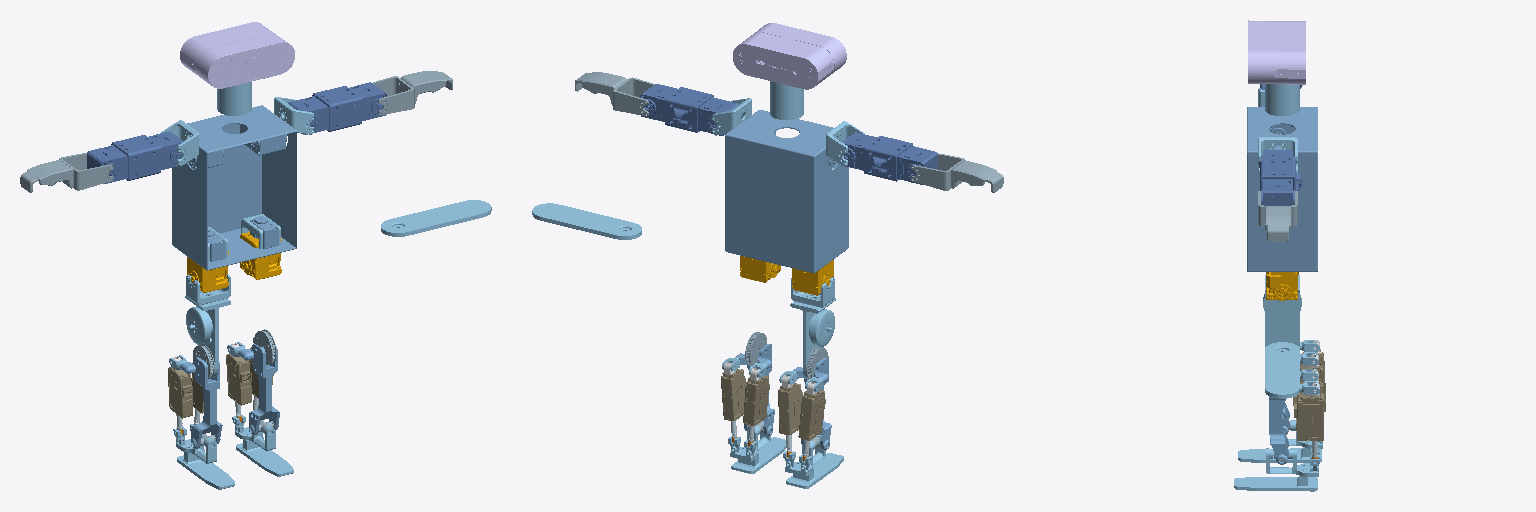
--- Render facts (derived) ---
The picture shows the robot from 3 angles, left to right: view 1: azimuth 30°, elevation 25°; view 2: azimuth 150°, elevation 25°; view 3: azimuth 270°, elevation 25°; orthographic projection.
Model base with 50 links and 49 joints (38 revolute, 4 prismatic, 7 fixed), rooted at base_link, posed all joints at 0.
Links seen in each view (by area): view 1: body_link, head_link, sho_roll_link_2, sho_roll_link, hip_pitch_link_2, elb_link_2, hip_pitch_link, elb_link, left_ank_base_link, right_ank_base_link, ank_act_link, ank_act_link_3 (+9 smaller); view 2: body_link, head_link, sho_roll_link_2, sho_roll_link, hip_pitch_link_2, hip_pitch_link, elb_link_2, elb_link, neck_link, ank_act_link_2, ank_act_link_3, ank_act_link_4 (+10 smaller); view 3: body_link, head_link, sho_roll_link, hip_pitch_link, hip_pitch_link_2, ank_act_link_2, elb_link, ank_rigid_foot_link, neck_link, left_ank_base_link, hip_roll_link, ank_roll_link (+2 smaller).
Link boxes in pixels (left/top/right/bottom): body_link: left=172, top=105, right=296, bottom=270; head_link: left=180, top=22, right=294, bottom=88; sho_roll_link_2: left=87, top=131, right=184, bottom=183; sho_roll_link: left=288, top=82, right=386, bottom=134; hip_pitch_link_2: left=185, top=274, right=230, bottom=377; elb_link_2: left=20, top=153, right=113, bottom=192; hip_pitch_link: left=381, top=200, right=491, bottom=236; elb_link: left=373, top=71, right=452, bottom=114; left_ank_base_link: left=239, top=344, right=279, bottom=434; right_ank_base_link: left=181, top=357, right=222, bottom=448; ank_act_link: left=226, top=354, right=251, bottom=405; ank_act_link_3: left=168, top=367, right=192, bottom=418; body_link: left=725, top=110, right=848, bottom=272; head_link: left=733, top=23, right=846, bottom=89; sho_roll_link_2: left=842, top=132, right=937, bottom=184; sho_roll_link: left=640, top=84, right=737, bottom=135; hip_pitch_link_2: left=790, top=277, right=835, bottom=379; hip_pitch_link: left=532, top=203, right=641, bottom=239; elb_link_2: left=911, top=153, right=1003, bottom=192; elb_link: left=575, top=72, right=654, bottom=116; neck_link: left=770, top=81, right=803, bottom=119; ank_act_link_2: left=721, top=369, right=745, bottom=420; ank_act_link_3: left=798, top=390, right=825, bottom=440; ank_act_link_4: left=778, top=383, right=802, bottom=434; body_link: left=1247, top=107, right=1317, bottom=271; head_link: left=1248, top=20, right=1305, bottom=84; sho_roll_link: left=1259, top=150, right=1302, bottom=205; hip_pitch_link: left=1265, top=342, right=1299, bottom=398; hip_pitch_link_2: left=1263, top=275, right=1301, bottom=346; ank_act_link_2: left=1294, top=393, right=1323, bottom=440; elb_link: left=1258, top=191, right=1297, bottom=241; ank_rigid_foot_link: left=1234, top=475, right=1317, bottom=491; neck_link: left=1265, top=84, right=1299, bottom=115; left_ank_base_link: left=1269, top=396, right=1288, bottom=464; hip_roll_link: left=1266, top=272, right=1298, bottom=300; ank_roll_link: left=1266, top=448, right=1318, bottom=476.
Bounding box of the posed robot: 0.6155 × 0.1037 × 0.5404 m (x, y, z).
Meshes: 49 distinct files referenced, 49 mesh visuals loaded (49 binary STL).

The robot description file, URDF, robot "base":
<?xml version="1.0" ?>
<robot name="base">
  <mujoco>
    <compiler meshdir="./meshes/" balanceinertia="true" discardvisual="false"/>
  </mujoco>
  <link name="base_link"/>
  <joint name="base_link_to_base" type="fixed">
    <parent link="base_link"/>
    <child link="body_link"/>
    <origin rpy="0.0 0 0" xyz="0 0 0"/>
  </joint>
  <link name="body_link">
    <visual>
      <origin xyz="0 0 0" rpy="0 -0 0"/>
      <geometry>
        <mesh filename="package:///meshes/body_link_visual.stl"/>
      </geometry>
      <material name="body_link_material">
        <color rgba="0.53580639039093369558 0.69998047627233728196 0.84668014903378197022 1.0"/>
      </material>
    </visual>
    <collision>
      <origin xyz="0 0 0" rpy="0 -0 0"/>
      <geometry>
        <mesh filename="package:///meshes/body_link_collision.stl"/>
      </geometry>
    </collision>
    <inertial>
      <origin xyz="4.4062888746493319004e-07 -0.031200877436958433103 0.4088646707714863604" rpy="0 0 0"/>
      <mass value="0.47165072969679472381"/>
      <inertia ixx="0.0016502701144258753643" ixy="4.6150671745810576251e-09" ixz="1.3865307173883609226e-09" iyy="0.0023122151204157939328" iyz="-3.251400921966603343e-05" izz="0.0011726853930432571457"/>
    </inertial>
  </link>

  <link name="neck_link">
    <visual>
      <origin xyz="0 0 0" rpy="0 -0 0"/>
      <geometry>
        <mesh filename="package:///meshes/neck_link_visual.stl"/>
      </geometry>
      <material name="neck_link_material">
        <color rgba="0.61568627450980395466 0.81176470588235294379 0.92941176470588227065 1.0"/>
      </material>
    </visual>
    <collision>
      <origin xyz="0 0 0" rpy="0 -0 0"/>
      <geometry>
        <mesh filename="package:///meshes/neck_link_collision.stl"/>
      </geometry>
    </collision>
    <inertial>
      <origin xyz="-1.0638645858380304546e-18 -1.2246467991473531918e-18 -0.024999999999999997918" rpy="0 0 0"/>
      <mass value="0.038955748904513441688"/>
      <inertia ixx="1.2011355912224977083e-05" ixy="0" ixz="0" iyy="1.2011355912224977083e-05" iyz="0" izz="7.7911497809026893487e-06"/>
    </inertial>
  </link>

  <link name="head_link">
    <visual>
      <origin xyz="0 0 0" rpy="0 -0 0"/>
      <geometry>
        <mesh filename="package:///meshes/head_link_visual.stl"/>
      </geometry>
      <material name="head_link_material">
        <color rgba="0.82352941176470562112 0.82352941176470562112 1 1.0"/>
      </material>
    </visual>
    <collision>
      <origin xyz="0 0 0" rpy="0 -0 0"/>
      <geometry>
        <mesh filename="package:///meshes/head_link_collision.stl"/>
      </geometry>
    </collision>
    <inertial>
      <origin xyz="-2.7167076653504106803e-05 -0.017382724514254131037 -0.019817566620870107064" rpy="0 0 0"/>
      <mass value="0.33570139948734667446"/>
      <inertia ixx="0.00014252129689030482076" ixy="-7.6303817026017514408e-09" ixz="1.7610348509398456341e-08" iyy="0.00037167471766598242019" iyz="8.4959473199279634133e-07" izz="0.00042907188406527861039"/>
    </inertial>
  </link>

  <joint name="head" type="fixed">
    <origin xyz="-8.1185058675714572018e-16 0.025000000000000202616 -0.049999999999999877875" rpy="1.1627977162610714148e-16 3.9441543390747586137e-31 -3.4420113463443417279e-33"/>
    <parent link="neck_link"/>
    <child link="head_link"/>
    <axis xyz="0 0 1"/>
    <limit effort="1" velocity="20"/>
    <joint_properties friction="0.0"/>
  </joint>

  <joint name="neck" type="fixed">
    <origin xyz="-2.8389897409080418735e-95 -0.040000000000000007772 0.47500000000000003331" rpy="-3.141592653589793116 1.4194948704540149157e-93 -2.3182110490017671006e-77"/>
    <parent link="body_link"/>
    <child link="neck_link"/>
    <axis xyz="0 0 1"/>
    <limit effort="1" velocity="20"/>
    <joint_properties friction="0.0"/>
  </joint>

  <link name="hip_yaw_link">
    <visual>
      <origin xyz="0 0 0" rpy="0 -0 0"/>
      <geometry>
        <mesh filename="package:///meshes/hip_yaw_link_visual.stl"/>
      </geometry>
      <material name="hip_yaw_link_material">
        <color rgba="0.61568627450980395466 0.81176470588235283277 0.92941176470588238168 1.0"/>
      </material>
    </visual>
    <collision>
      <origin xyz="0 0 0" rpy="0 -0 0"/>
      <geometry>
        <mesh filename="package:///meshes/hip_yaw_link_collision.stl"/>
      </geometry>
    </collision>
    <inertial>
      <origin xyz="-1.1256564660122456777e-17 -1.0288254418572155007e-18 -0.0084531286823174289768" rpy="0 0 0"/>
      <mass value="0.0052740645607467504311"/>
      <inertia ixx="7.6143588499645884262e-07" ixy="7.0320919209667631362e-15" ixz="0" iyy="1.7966487931922594855e-06" iyz="0" izz="1.8873281741438433932e-06"/>
    </inertial>
  </link>

  <link name="hip_roll_link">
    <visual>
      <origin xyz="0 0 0" rpy="0 -0 0"/>
      <geometry>
        <mesh filename="package:///meshes/hip_roll_link_visual.stl"/>
      </geometry>
      <material name="hip_roll_link_material">
        <color rgba="0.95018735644455853961 0.70678927200428420807 0.061612079402596685307 1.0"/>
      </material>
    </visual>
    <collision>
      <origin xyz="0 0 0" rpy="0 -0 0"/>
      <geometry>
        <mesh filename="package:///meshes/hip_roll_link_collision.stl"/>
      </geometry>
    </collision>
    <inertial>
      <origin xyz="-0.012000151133956580771 -0.00049588831385636569435 -0.018504019244503996933" rpy="0 0 0"/>
      <mass value="0.09801239148352869357"/>
      <inertia ixx="2.0221748766305656871e-05" ixy="-4.1552068246444377235e-08" ixz="-4.1225592188121905184e-08" iyy="2.7358099958306176906e-05" iyz="-5.0935731752409709458e-07" izz="2.7358069524722121679e-05"/>
    </inertial>
  </link>

  <link name="hip_pitch_link">
    <visual>
      <origin xyz="0 0 0" rpy="0 -0 0"/>
      <geometry>
        <mesh filename="package:///meshes/hip_pitch_link_visual.stl"/>
      </geometry>
      <material name="hip_pitch_link_material">
        <color rgba="0.61568627450980395466 0.81176470588235294379 0.9294117647058824927 1.0"/>
      </material>
    </visual>
    <collision>
      <origin xyz="0 0 0" rpy="0 -0 0"/>
      <geometry>
        <mesh filename="package:///meshes/hip_pitch_link_collision.stl"/>
      </geometry>
    </collision>
    <inertial>
      <origin xyz="-0.00014465123710725416757 0.055851948309978374785 0.027156881267530057905" rpy="0 0 0"/>
      <mass value="0.075144662701080264244"/>
      <inertia ixx="4.0191529808885994137e-05" ixy="1.6238444184423873614e-07" ixz="-1.4752139614329160592e-08" iyy="1.4356178520875714208e-05" iyz="-2.3026600051061320293e-06" izz="4.2265078109541664563e-05"/>
    </inertial>
  </link>

  <link name="knee_link">
    <visual>
      <origin xyz="0 0 0" rpy="0 -0 0"/>
      <geometry>
        <mesh filename="package:///meshes/knee_link_visual.stl"/>
      </geometry>
      <material name="knee_link_material">
        <color rgba="0.62989867807310029324 0.73714958717504697194 0.80150013263621511239 1.0"/>
      </material>
    </visual>
    <collision>
      <origin xyz="0 0 0" rpy="0 -0 0"/>
      <geometry>
        <mesh filename="package:///meshes/knee_link_collision.stl"/>
      </geometry>
    </collision>
    <inertial>
      <origin xyz="-4.7805574649124107896e-19 1.2141987371608233592e-18 -0.0032457853126643650479" rpy="0 0 0"/>
      <mass value="0.0043868974356887713642"/>
      <inertia ixx="4.1908664095027087493e-07" ixy="-6.2704372557265913346e-22" ixz="-1.50474421732691398e-21" iyy="4.1908664095026960438e-07" iyz="5.1404161659562929998e-23" izz="8.0521341717893507735e-07"/>
    </inertial>
  </link>

  <link name="left_ank_base_link">
    <visual>
      <origin xyz="0 0 0" rpy="0 -0 0"/>
      <geometry>
        <mesh filename="package:///meshes/left_ank_base_link_visual.stl"/>
      </geometry>
      <material name="left_ank_base_link_material">
        <color rgba="0.54555368846635599045 0.72113944167448473799 0.8707199484021568292 1.0"/>
      </material>
    </visual>
    <collision>
      <origin xyz="0 0 0" rpy="0 -0 0"/>
      <geometry>
        <mesh filename="package:///meshes/left_ank_base_link_collision.stl"/>
      </geometry>
    </collision>
    <inertial>
      <origin xyz="-0.0022434246051615397421 0.043104146371691257067 0.0063175709427246368524" rpy="0 0 0"/>
      <mass value="0.014262086197619733285"/>
      <inertia ixx="1.5262993546706225058e-05" ixy="9.1266662056318924248e-07" ixz="6.0404933644656539084e-08" iyy="1.963419793122548123e-06" iyz="-7.3113325087199860144e-08" izz="1.5076214983324486886e-05"/>
    </inertial>
  </link>

  <link name="ank_pitch_link">
    <visual>
      <origin xyz="0 0 0" rpy="0 -0 0"/>
      <geometry>
        <mesh filename="package:///meshes/ank_pitch_link_visual.stl"/>
      </geometry>
      <material name="ank_pitch_link_material">
        <color rgba="0.63157201649708316626 0.72836456044913711061 0.78644008682036958824 1.0"/>
      </material>
    </visual>
    <collision>
      <origin xyz="0 0 0" rpy="0 -0 0"/>
      <geometry>
        <mesh filename="package:///meshes/ank_pitch_link_collision.stl"/>
      </geometry>
    </collision>
    <inertial>
      <origin xyz="3.9220459223454419014e-08 0.0005846799720590941914 -0.014599924406174018265" rpy="0 0 0"/>
      <mass value="0.0041366725921694333726"/>
      <inertia ixx="4.3252419788339087265e-07" ixy="1.5885353965513340641e-13" ixz="1.5670565615441453685e-12" iyy="3.9522408111774832166e-07" iyz="1.6638141862510517362e-14" izz="8.5883658455742007676e-08"/>
    </inertial>
  </link>

  <link name="ank_roll_link">
    <visual>
      <origin xyz="0 0 0" rpy="0 -0 0"/>
      <geometry>
        <mesh filename="package:///meshes/ank_roll_link_visual.stl"/>
      </geometry>
      <material name="ank_roll_link_material">
        <color rgba="0.61568627450980395466 0.81176470588235283277 0.92941176470588238168 1.0"/>
      </material>
    </visual>
    <collision>
      <origin xyz="0 0 0" rpy="0 -0 0"/>
      <geometry>
        <mesh filename="package:///meshes/ank_roll_link_collision.stl"/>
      </geometry>
    </collision>
    <inertial>
      <origin xyz="-1.4901271221680251286e-10 -0.013684967917931582446 0.014389602633949050842" rpy="0 0 0"/>
      <mass value="0.0054237955467263104098"/>
      <inertia ixx="2.3215873123896830813e-06" ixy="-5.7389209347342181748e-15" ixz="-9.0715784946508249746e-15" iyy="2.1054587922310807725e-06" iyz="3.6308271258505744596e-07" izz="5.6387331373110556301e-07"/>
    </inertial>
  </link>

  <link name="ank_rigid_foot_link">
    <visual>
      <origin xyz="0 0 0" rpy="0 -0 0"/>
      <geometry>
        <mesh filename="package:///meshes/ank_rigid_foot_link_visual.stl"/>
      </geometry>
      <material name="ank_rigid_foot_link_material">
        <color rgba="0.61568627450980395466 0.81176470588235294379 0.92941176470588238168 1.0"/>
      </material>
    </visual>
    <collision>
      <origin xyz="0 0 0" rpy="0 -0 0"/>
      <geometry>
        <mesh filename="package:///meshes/ank_rigid_foot_link_collision.stl"/>
      </geometry>
    </collision>
    <inertial>
      <origin xyz="-0.023731999094105324377 -9.4396649780303798814e-10 -0.013306321578886223106" rpy="0 0 0"/>
      <mass value="0.0082157357687249205763"/>
      <inertia ixx="6.5404454512568340557e-07" ixy="3.4320556103222174329e-13" ixz="-3.2926756768140872887e-07" iyy="5.8836130895435065553e-06" iyz="-3.0207161938409150368e-15" izz="6.2852473690143493418e-06"/>
    </inertial>
  </link>

  <joint name="left_ank_foot" type="fixed">
    <origin xyz="0 -0.022499999999999999167 0.025599999999999994288" rpy="-1.570796326794896558 -1.570796326794896558 0"/>
    <parent link="ank_roll_link"/>
    <child link="ank_rigid_foot_link"/>
    <axis xyz="0 0 1"/>
    <limit effort="1" velocity="20"/>
    <joint_properties friction="0.0"/>
  </joint>

  <link name="ank_rr_link">
    <visual>
      <origin xyz="0 0 0" rpy="0 -0 0"/>
      <geometry>
        <mesh filename="package:///meshes/ank_rr_link_visual.stl"/>
      </geometry>
      <material name="ank_rr_link_material">
        <color rgba="0.61568627450980395466 0.81176470588235294379 0.92941176470588238168 1.0"/>
      </material>
    </visual>
    <collision>
      <origin xyz="0 0 0" rpy="0 -0 0"/>
      <geometry>
        <mesh filename="package:///meshes/ank_rr_link_collision.stl"/>
      </geometry>
    </collision>
    <inertial>
      <origin xyz="2.9962725549972246973e-05 -0.0069241283254153204382 -0.0018999999999999993457" rpy="0 0 0"/>
      <mass value="0.00047585137324286056349"/>
      <inertia ixx="1.1040705352249973231e-08" ixy="4.3855175770053429771e-11" ixz="-6.7102857729632790725e-15" iyy="9.5635364996381597289e-09" iyz="9.495063409068154119e-27" izz="1.4744115584475854764e-08"/>
    </inertial>
  </link>

  <link name="ank_act_rod_head">
    <visual>
      <origin xyz="0 0 0" rpy="0 -0 0"/>
      <geometry>
        <mesh filename="package:///meshes/ank_act_rod_head_visual.stl"/>
      </geometry>
      <material name="ank_act_rod_head_material">
        <color rgba="0.97254901960784312376 0.52941176470588235947 0.0039215686274509803377 1.0"/>
      </material>
    </visual>
    <collision>
      <origin xyz="0 0 0" rpy="0 -0 0"/>
      <geometry>
        <mesh filename="package:///meshes/ank_act_rod_head_collision.stl"/>
      </geometry>
    </collision>
    <inertial>
      <origin xyz="-5.7828414961537805985e-11 0.0033987031118029161977 -0.0020055782443104586306" rpy="0 0 0"/>
      <mass value="0.00066080012085386230676"/>
      <inertia ixx="1.0675794104648551211e-08" ixy="-1.8531171291745731231e-16" ixz="9.2603132968292932915e-16" iyy="2.3773718249661060612e-09" iyz="6.340139971923795343e-12" izz="1.1538333246010971133e-08"/>
    </inertial>
  </link>

  <joint name="left_ank_R21" type="revolute">
    <origin xyz="0.0020000000000000087153 -0.010000000000000008882 -0.0018999999999999995625" rpy="-1.57079632679489678 -1.5534345204865469547 -1.5707963267964526466"/>
    <parent link="ank_rr_link"/>
    <child link="ank_act_rod_head"/>
    <axis xyz="0 0 1"/>
    <limit effort="1" velocity="20" lower="-1.570796326794896558" upper="1.570796326794896558"/>
    <joint_properties friction="0.0"/>
  </joint>

  <joint name="left_ank_R11" type="revolute">
    <origin xyz="0.010000000000000001943 -0.012500000000000004163 0.040599999999999997202" rpy="-1.2787963292933377177e-17 -1.8228899889648075415e-17 3.0761399207850530502"/>
    <parent link="ank_roll_link"/>
    <child link="ank_rr_link"/>
    <axis xyz="0 0 1"/>
    <limit effort="1" velocity="20" lower="-1.570796326794896558" upper="1.570796326794896558"/>
    <joint_properties friction="0.0"/>
  </joint>

  <link name="ank_rr_link_2">
    <visual>
      <origin xyz="0 0 0" rpy="0 -0 0"/>
      <geometry>
        <mesh filename="package:///meshes/ank_rr_link_2_visual.stl"/>
      </geometry>
      <material name="ank_rr_link_2_material">
        <color rgba="0.61568627450980395466 0.81176470588235294379 0.92941176470588238168 1.0"/>
      </material>
    </visual>
    <collision>
      <origin xyz="0 0 0" rpy="0 -0 0"/>
      <geometry>
        <mesh filename="package:///meshes/ank_rr_link_2_collision.stl"/>
      </geometry>
    </collision>
    <inertial>
      <origin xyz="2.9962725549961845409e-05 0.0069241283254153134993 -0.0018999999999999997793" rpy="0 0 0"/>
      <mass value="0.00047585137324286056349"/>
      <inertia ixx="1.1040705352249969922e-08" ixy="-4.3855175770053029106e-11" ixz="6.7102857729632782836e-15" iyy="9.5635364996381597289e-09" iyz="7.3571003739104116142e-27" izz="1.4744115584475854764e-08"/>
    </inertial>
  </link>

  <link name="ank_act_rod_head_2">
    <visual>
      <origin xyz="0 0 0" rpy="0 -0 0"/>
      <geometry>
        <mesh filename="package:///meshes/ank_act_rod_head_2_visual.stl"/>
      </geometry>
      <material name="ank_act_rod_head_2_material">
        <color rgba="0.97254901960784312376 0.52941176470588235947 0.0039215686274509803377 1.0"/>
      </material>
    </visual>
    <collision>
      <origin xyz="0 0 0" rpy="0 -0 0"/>
      <geometry>
        <mesh filename="package:///meshes/ank_act_rod_head_2_collision.stl"/>
      </geometry>
    </collision>
    <inertial>
      <origin xyz="-5.7828415828126640626e-11 0.0033987031118029235703 -0.0020055782443104621" rpy="0 0 0"/>
      <mass value="0.00066080012085386230676"/>
      <inertia ixx="1.067579410464855452e-08" ixy="-1.853117129281713746e-16" ixz="9.2603132968172690792e-16" iyy="2.377371824966105234e-09" iyz="6.3401399719235618906e-12" izz="1.1538333246010974441e-08"/>
    </inertial>
  </link>

  <joint name="left_ank_R22" type="revolute">
    <origin xyz="0.0019999999999999948375 0.010000000000000015821 -0.0018999999999999999962" rpy="-1.5707963267948945596 1.5676670403457815262 -1.5707963267949440755"/>
    <parent link="ank_rr_link_2"/>
    <child link="ank_act_rod_head_2"/>
    <axis xyz="0 0 1"/>
    <limit effort="1" velocity="20" lower="-1.570796326794896558" upper="1.570796326794896558"/>
    <joint_properties friction="0.0"/>
  </joint>

  <joint name="left_ank_R12" type="revolute">
    <origin xyz="-0.0099999999999999741873 -0.012499999999999997224 0.040599999999999997202" rpy="-7.7301105620767295759e-15 2.7427633691344020646e-15 0.075580800785947366283"/>
    <parent link="ank_roll_link"/>
    <child link="ank_rr_link_2"/>
    <axis xyz="0 0 1"/>
    <limit effort="1" velocity="20" lower="-1.570796326794896558" upper="1.570796326794896558"/>
    <joint_properties friction="0.0"/>
  </joint>

  <joint name="left_ank_roll" type="revolute">
    <origin xyz="1.3877787807814456755e-17 0.0014999999999999805156 -0.014600000000000008804" rpy="1.5707963267948836794 -1.5707963267948876762 0"/>
    <parent link="ank_pitch_link"/>
    <child link="ank_roll_link"/>
    <axis xyz="0 0 1"/>
    <limit effort="1" velocity="20" lower="-1.570796326794896558" upper="1.570796326794896558"/>
    <joint_properties friction="0.0"/>
  </joint>

  <joint name="left_ank_pitch" type="revolute">
    <origin xyz="2.2898349882893853646e-16 0.099999999999999186762 0.020899999999999321898" rpy="-3.9765493497921600178e-15 1.6032661971899303447e-14 1.5707963267949018871"/>
    <parent link="left_ank_base_link"/>
    <child link="ank_pitch_link"/>
    <axis xyz="0 0 1"/>
    <limit effort="1" velocity="20" lower="-1.570796326794896558" upper="1.570796326794896558"/>
    <joint_properties friction="0.0"/>
  </joint>

  <link name="ank_b_link">
    <visual>
      <origin xyz="0 0 0" rpy="0 -0 0"/>
      <geometry>
        <mesh filename="package:///meshes/ank_b_link_visual.stl"/>
      </geometry>
      <material name="ank_b_link_material">
        <color rgba="0.61568627450980406568 0.81176470588235294379 0.92941176470588238168 1.0"/>
      </material>
    </visual>
    <collision>
      <origin xyz="0 0 0" rpy="0 -0 0"/>
      <geometry>
        <mesh filename="package:///meshes/ank_b_link_collision.stl"/>
      </geometry>
    </collision>
    <inertial>
      <origin xyz="-4.9409968174924843787e-09 -5.9508723330794147338e-09 -0.0087165888679858055665" rpy="0 0 0"/>
      <mass value="0.00089583742203429468642"/>
      <inertia ixx="3.3822537554673509423e-08" ixy="3.9003059555601949828e-15" ixz="1.5176340834792884423e-14" iyy="4.5803979388252428374e-08" iyz="5.2207519907247493101e-14" izz="2.5946834402259798692e-08"/>
    </inertial>
  </link>

  <link name="ank_act_link_head">
    <visual>
      <origin xyz="0 0 0" rpy="0 -0 0"/>
      <geometry>
        <mesh filename="package:///meshes/ank_act_link_head_visual.stl"/>
      </geometry>
      <material name="ank_act_link_head_material">
        <color rgba="0.8805660089056220885 0.88861789403065327697 0.90620490627743233158 1.0"/>
      </material>
    </visual>
    <collision>
      <origin xyz="0 0 0" rpy="0 -0 0"/>
      <geometry>
        <mesh filename="package:///meshes/ank_act_link_head_collision.stl"/>
      </geometry>
    </collision>
    <inertial>
      <origin xyz="8.5302207332433715444e-09 -0.0023472231756390144614 -0.0043000180232788494036" rpy="0 0 0"/>
      <mass value="0.0030517714925792842166"/>
      <inertia ixx="5.2970409371069138366e-08" ixy="-5.7058840878942830853e-14" ixz="1.0325254833710065904e-14" iyy="5.6254659413317882916e-08" iyz="1.164655651672180061e-13" izz="6.2451084839898886522e-08"/>
    </inertial>
  </link>

  <link name="ank_act_link">
    <visual>
      <origin xyz="0 0 0" rpy="0 -0 0"/>
      <geometry>
        <mesh filename="package:///meshes/ank_act_link_visual.stl"/>
      </geometry>
      <material name="ank_act_link_material">
        <color rgba="0.62004392100736016591 0.58836684613512646447 0.49897069021535683797 1.0"/>
      </material>
    </visual>
    <collision>
      <origin xyz="0 0 0" rpy="0 -0 0"/>
      <geometry>
        <mesh filename="package:///meshes/ank_act_link_collision.stl"/>
      </geometry>
    </collision>
    <inertial>
      <origin xyz="0.0049084207243664992187 -0.00013802439943776201943 -0.029947003577137563252" rpy="0 0 0"/>
      <mass value="0.044782197696050345115"/>
      <inertia ixx="1.5260128421304992304e-05" ixy="2.2955773686943532607e-08" ixz="-8.13642040076507444e-08" iyy="1.8188469778942020771e-05" iyz="-5.554224084389538408e-08" izz="5.1496273901719665788e-06"/>
    </inertial>
  </link>

  <link name="ank_act_rod">
    <visual>
      <origin xyz="0 0 0" rpy="0 -0 0"/>
      <geometry>
        <mesh filename="package:///meshes/ank_act_rod_visual.stl"/>
      </geometry>
      <material name="ank_act_rod_material">
        <color rgba="0.80016770676329840306 0.8929145636529542962 0.94547111589042631685 1.0"/>
      </material>
    </visual>
    <collision>
      <origin xyz="0 0 0" rpy="0 -0 0"/>
      <geometry>
        <mesh filename="package:///meshes/ank_act_rod_collision.stl"/>
      </geometry>
    </collision>
    <inertial>
      <origin xyz="-2.7254954592196531516e-06 -1.2667795959285480943e-05 0.0060054807227725333363" rpy="0 0 0"/>
      <mass value="0.0026945559868381376359"/>
      <inertia ixx="3.2231832056346636488e-07" ixy="-9.9380293177858854772e-13" ixz="1.0490654904374275287e-10" iyy="3.2231218697767694754e-07" iyz="5.6317539912889412714e-10" izz="1.8746557075763103622e-08"/>
    </inertial>
  </link>

  <joint name="left_ank_act1" type="prismatic">
    <origin xyz="2.2722093439889699817e-06 -2.3175905639050142781e-15 -0.059207313423199875446" rpy="3.141592653589793116 6.878790537704591275e-16 -0.63671356442007176479"/>
    <parent link="ank_act_link"/>
    <child link="ank_act_rod"/>
    <axis xyz="0 0 1"/>
    <limit effort="1" velocity="20" lower="-0.017000000000000001221" upper="0.017000000000000001221"/>
    <joint_properties friction="0.0"/>
  </joint>

  <joint name="left_ank_B31" type="revolute">
    <origin xyz="-4.336808689942017736e-19 -0.0060499999999999720668 -0.0043000000000000017375" rpy="1.570796326794896558 5.4574690063457464206e-06 3.1415926535897917837"/>
    <parent link="ank_act_link_head"/>
    <child link="ank_act_link"/>
    <axis xyz="0 0 1"/>
    <limit effort="1" velocity="20" lower="-1.570796326794896558" upper="1.570796326794896558"/>
    <joint_properties friction="0.0"/>
  </joint>

  <joint name="left_ank_B21" type="revolute">
    <origin xyz="-0.0044999999999999970579 0 -0.016999999999999997752" rpy="1.5707963267948970021 1.553434520486443482 -1.5707963267948976682"/>
    <parent link="ank_b_link"/>
    <child link="ank_act_link_head"/>
    <axis xyz="0 0 1"/>
    <limit effort="1" velocity="20" lower="-1.570796326794896558" upper="1.570796326794896558"/>
    <joint_properties friction="0.0"/>
  </joint>

  <joint name="left_ank_B11" type="revolute">
    <origin xyz="0.018680019623525515038 0.010000000000000258682 0.023399999999999653716" rpy="-1.570796326794896558 -1.5053435939902863883 1.5707963267948972241"/>
    <parent link="left_ank_base_link"/>
    <child link="ank_b_link"/>
    <axis xyz="0 0 1"/>
    <limit effort="1" velocity="20" lower="-1.570796326794896558" upper="1.570796326794896558"/>
    <joint_properties friction="0.0"/>
  </joint>

  <link name="ank_b_link_2">
    <visual>
      <origin xyz="0 0 0" rpy="0 -0 0"/>
      <geometry>
        <mesh filename="package:///meshes/ank_b_link_2_visual.stl"/>
      </geometry>
      <material name="ank_b_link_2_material">
        <color rgba="0.61568627450980406568 0.81176470588235294379 0.92941176470588238168 1.0"/>
      </material>
    </visual>
    <collision>
      <origin xyz="0 0 0" rpy="0 -0 0"/>
      <geometry>
        <mesh filename="package:///meshes/ank_b_link_2_collision.stl"/>
      </geometry>
    </collision>
    <inertial>
      <origin xyz="-4.9409968174931535678e-09 5.9508723885891341154e-09 0.0087165888679858055665" rpy="0 0 0"/>
      <mass value="0.00089583742203429468642"/>
      <inertia ixx="3.3822537554673509423e-08" ixy="-3.9003059555719639987e-15" ixz="-1.5176340834791707442e-14" iyy="4.5803979388252428374e-08" iyz="5.2207519907281369944e-14" izz="2.5946834402259798692e-08"/>
    </inertial>
  </link>

  <link name="ank_act_link_head_2">
    <visual>
      <origin xyz="0 0 0" rpy="0 -0 0"/>
      <geometry>
        <mesh filename="package:///meshes/ank_act_link_head_2_visual.stl"/>
      </geometry>
      <material name="ank_act_link_head_2_material">
        <color rgba="0.8805660089056220885 0.88861789403065327697 0.90620490627743233158 1.0"/>
      </material>
    </visual>
    <collision>
      <origin xyz="0 0 0" rpy="0 -0 0"/>
      <geometry>
        <mesh filename="package:///meshes/ank_act_link_head_2_collision.stl"/>
      </geometry>
    </collision>
    <inertial>
      <origin xyz="8.5302207459455471046e-09 0.0023472231756390240023 -0.0042999819767212338686" rpy="0 0 0"/>
      <mass value="0.0030517714925792842166"/>
      <inertia ixx="5.2970409371068860433e-08" ixy="5.7058840739502628664e-14" ixz="-1.0325254833247212812e-14" iyy="5.6254659413317882916e-08" iyz="1.1646556595655523185e-13" izz="6.2451084839898608589e-08"/>
    </inertial>
  </link>

  <link name="ank_act_link_2">
    <visual>
      <origin xyz="0 0 0" rpy="0 -0 0"/>
      <geometry>
        <mesh filename="package:///meshes/ank_act_link_2_visual.stl"/>
      </geometry>
      <material name="ank_act_link_2_material">
        <color rgba="0.62004392100736027693 0.58836684613512635345 0.49897069021535683797 1.0"/>
      </material>
    </visual>
    <collision>
      <origin xyz="0 0 0" rpy="0 -0 0"/>
      <geometry>
        <mesh filename="package:///meshes/ank_act_link_2_collision.stl"/>
      </geometry>
    </collision>
    <inertial>
      <origin xyz="0.0049084207243662971235 -0.00013802439943620580984 -0.029947003577136210167" rpy="0 0 0"/>
      <mass value="0.044782197696050352054"/>
      <inertia ixx="1.5260128421303992806e-05" ixy="2.2955773687139518164e-08" ixz="-8.136420400771147931e-08" iyy="1.8188469778941055154e-05" iyz="-5.5542240843303658774e-08" izz="5.1496273901720436588e-06"/>
    </inertial>
  </link>

  <link name="ank_act_rod_2">
    <visual>
      <origin xyz="0 0 0" rpy="0 -0 0"/>
      <geometry>
        <mesh filename="package:///meshes/ank_act_rod_2_visual.stl"/>
      </geometry>
      <material name="ank_act_rod_2_material">
        <color rgba="0.80016770676329840306 0.8929145636529542962 0.94547111589042631685 1.0"/>
      </material>
    </visual>
    <collision>
      <origin xyz="0 0 0" rpy="0 -0 0"/>
      <geometry>
        <mesh filename="package:///meshes/ank_act_rod_2_collision.stl"/>
      </geometry>
    </collision>
    <inertial>
      <origin xyz="-2.7254954586314281568e-06 -1.2667795959237606641e-05 0.0060054807227712253548" rpy="0 0 0"/>
      <mass value="0.0026945559868381376359"/>
      <inertia ixx="3.2231832056338510265e-07" ixy="-9.9380293169653994539e-13" ixz="1.0490654902578466177e-10" iyy="3.2231218697759494416e-07" iyz="5.6317539912783440538e-10" izz="1.8746557075762872011e-08"/>
    </inertial>
  </link>

  <joint name="left_ank_act2" type="prismatic">
    <origin xyz="2.2722093437109805447e-06 2.2204460492503130808e-16 -0.059246516530140014289" rpy="-3.141592653589793116 -3.3046120317952816603e-15 -0.6367135644200548894"/>
    <parent link="ank_act_link_2"/>
    <child link="ank_act_rod_2"/>
    <axis xyz="0 0 1"/>
    <limit effort="1" velocity="20" lower="-0.017000000000000001221" upper="0.017000000000000001221"/>
    <joint_properties friction="0.0"/>
  </joint>

  <joint name="left_ank_B32" type="revolute">
    <origin xyz="-1.7347234759768070944e-18 0.0060499999999999998224 -0.0043000000000000190847" rpy="-1.5707963267948970021 -5.4574692695236841152e-06 3.1415926535897900074"/>
    <parent link="ank_act_link_head_2"/>
    <child link="ank_act_link_2"/>
    <axis xyz="0 0 1"/>
    <limit effort="1" velocity="20" lower="-1.570796326794896558" upper="1.570796326794896558"/>
    <joint_properties friction="0.0"/>
  </joint>

  <joint name="left_ank_B22" type="revolute">
    <origin xyz="-0.0045000000000000039968 2.7755575615628913511e-17 0.016999999999999997752" rpy="1.5707963267948976682 -1.5676670403455870151 -1.5707963267941265073"/>
    <parent link="ank_b_link_2"/>
    <child link="ank_act_link_head_2"/>
    <axis xyz="0 0 1"/>
    <limit effort="1" velocity="20" lower="-1.570796326794896558" upper="1.570796326794896558"/>
    <joint_properties friction="0.0"/>
  </joint>

  <joint name="left_ank_B12" type="revolute">
    <origin xyz="0.020000000000000000416 0.010000000000000008882 -0.011499999999999996336" rpy="1.570796326794896558 1.4952155260088482169 1.5707963267948961139"/>
    <parent link="left_ank_base_link"/>
    <child link="ank_b_link_2"/>
    <axis xyz="0 0 1"/>
    <limit effort="1" velocity="20" lower="-1.570796326794896558" upper="1.570796326794896558"/>
    <joint_properties friction="0.0"/>
  </joint>

  <joint name="left_ank_base" type="fixed">
    <origin xyz="-2.7755575615628913511e-17 -2.7755575615628913511e-17 -0.0065000000000000404676" rpy="-2.5778424446483550449e-15 -5.8771504303585622093e-17 -2.0891591146372152643"/>
    <parent link="knee_link"/>
    <child link="left_ank_base_link"/>
    <axis xyz="0 0 1"/>
    <limit effort="1" velocity="20"/>
    <joint_properties friction="0.0"/>
  </joint>

  <joint name="left_knee" type="revolute">
    <origin xyz="-7.6327832942979512154e-17 0.10750000000000065059 0.021499999999999946237" rpy="-3.141592653589793116 1.6520983539851397786e-15 1.0471975511966311601"/>
    <parent link="hip_pitch_link"/>
    <child link="knee_link"/>
    <axis xyz="0 0 1"/>
    <limit effort="1" velocity="20" lower="-1.0471975511965976313" upper="2.0943951023931952626"/>
    <joint_properties friction="0.0"/>
  </joint>

  <joint name="left_hip_pitch" type="revolute">
    <origin xyz="-0.024000000716140057477 -0.019000000152448709434 -0.019000000152448379837" rpy="-1.5707963267948990005 1.5707963267948346076 0"/>
    <parent link="hip_roll_link"/>
    <child link="hip_pitch_link"/>
    <axis xyz="0 0 1"/>
    <limit effort="1" velocity="20" lower="-1.570796326794896558" upper="1.570796326794896558"/>
    <joint_properties friction="0.0"/>
  </joint>

  <joint name="left_hip_roll" type="revolute">
    <origin xyz="0.01899999999999998912 -6.9388939039072283776e-18 -0.027499999999999968914" rpy="3.1415926535897926719 -1.5707963267948950037 0"/>
    <parent link="hip_yaw_link"/>
    <child link="hip_roll_link"/>
    <axis xyz="0 0 1"/>
    <limit effort="1" velocity="20" lower="-1.570796326794896558" upper="1.570796326794896558"/>
    <joint_properties friction="0.0"/>
  </joint>

  <joint name="left_hip_yaw" type="revolute">
    <origin xyz="0.034999999999999989453 -0.039999999999999993894 0.32359999999999999876" rpy="8.2736565350258079362e-17 -1.1884745520697063838e-16 1.570796326794742015"/>
    <parent link="body_link"/>
    <child link="hip_yaw_link"/>
    <axis xyz="0 0 1"/>
    <limit effort="1" velocity="20" lower="-1.570796326794896558" upper="1.570796326794896558"/>
    <joint_properties friction="0.0"/>
  </joint>

  <link name="hip_yaw_link_2">
    <visual>
      <origin xyz="0 0 0" rpy="0 -0 0"/>
      <geometry>
        <mesh filename="package:///meshes/hip_yaw_link_2_visual.stl"/>
      </geometry>
      <material name="hip_yaw_link_2_material">
        <color rgba="0.61568627450980395466 0.81176470588235283277 0.92941176470588238168 1.0"/>
      </material>
    </visual>
    <collision>
      <origin xyz="0 0 0" rpy="0 -0 0"/>
      <geometry>
        <mesh filename="package:///meshes/hip_yaw_link_2_collision.stl"/>
      </geometry>
    </collision>
    <inertial>
      <origin xyz="-4.3176707562152299399e-18 -1.0288254418572155007e-18 -0.0084531286823174289768" rpy="0 0 0"/>
      <mass value="0.0052740645607467504311"/>
      <inertia ixx="7.6143588499645884262e-07" ixy="7.0320919209667631362e-15" ixz="0" iyy="1.7966487931922594855e-06" iyz="0" izz="1.8873281741438433932e-06"/>
    </inertial>
  </link>

  <link name="hip_roll_link_2">
    <visual>
      <origin xyz="0 0 0" rpy="0 -0 0"/>
      <geometry>
        <mesh filename="package:///meshes/hip_roll_link_2_visual.stl"/>
      </geometry>
      <material name="hip_roll_link_2_material">
        <color rgba="0.95018735644455831757 0.70678927200428420807 0.061612079402596706124 1.0"/>
      </material>
    </visual>
    <collision>
      <origin xyz="0 0 0" rpy="0 -0 0"/>
      <geometry>
        <mesh filename="package:///meshes/hip_roll_link_2_collision.stl"/>
      </geometry>
    </collision>
    <inertial>
      <origin xyz="-0.012000151133958301616 -0.0004958883138579184887 -0.018504019244505284097" rpy="0 0 0"/>
      <mass value="0.09801239148352869357"/>
      <inertia ixx="2.022174876630631078e-05" ixy="-4.155206824665510315e-08" ixz="-4.1225592188223800601e-08" iyy="2.7358099958306752889e-05" iyz="-5.0935731752412377612e-07" izz="2.7358069524723090685e-05"/>
    </inertial>
  </link>

  <link name="hip_pitch_link_2">
    <visual>
      <origin xyz="0 0 0" rpy="0 -0 0"/>
      <geometry>
        <mesh filename="package:///meshes/hip_pitch_link_2_visual.stl"/>
      </geometry>
      <material name="hip_pitch_link_2_material">
        <color rgba="0.61568627450980395466 0.81176470588235294379 0.9294117647058824927 1.0"/>
      </material>
    </visual>
    <collision>
      <origin xyz="0 0 0" rpy="0 -0 0"/>
      <geometry>
        <mesh filename="package:///meshes/hip_pitch_link_2_collision.stl"/>
      </geometry>
    </collision>
    <inertial>
      <origin xyz="-0.00014465123710725508914 -0.055851948309978069473 0.010843118732469127566" rpy="0 0 0"/>
      <mass value="0.075144662701080264244"/>
      <inertia ixx="4.0191529808885194538e-05" ixy="-1.6238444184403867755e-07" ixz="1.4752139614553988282e-08" iyy="1.4356178520875839569e-05" iyz="-2.3026600051062988948e-06" izz="4.226507810954116312e-05"/>
    </inertial>
  </link>

  <link name="knee_link_2">
    <visual>
      <origin xyz="0 0 0" rpy="0 -0 0"/>
      <geometry>
        <mesh filename="package:///meshes/knee_link_2_visual.stl"/>
      </geometry>
      <material name="knee_link_2_material">
        <color rgba="0.62989867807310029324 0.73714958717504697194 0.80150013263621511239 1.0"/>
      </material>
    </visual>
    <collision>
      <origin xyz="0 0 0" rpy="0 -0 0"/>
      <geometry>
        <mesh filename="package:///meshes/knee_link_2_collision.stl"/>
      </geometry>
    </collision>
    <inertial>
      <origin xyz="2.2926869309388423426e-17 6.637187732689870912e-18 -0.0032457853126643468333" rpy="0 0 0"/>
      <mass value="0.0043868974356887713642"/>
      <inertia ixx="4.1908664095027235723e-07" ixy="1.0782789776895085275e-22" ixz="-1.2794454692413441591e-22" iyy="4.1908664095027288663e-07" iyz="-2.5814071989648744261e-23" izz="8.0521341717893698318e-07"/>
    </inertial>
  </link>

  <link name="right_ank_base_link">
    <visual>
      <origin xyz="0 0 0" rpy="0 -0 0"/>
      <geometry>
        <mesh filename="package:///meshes/right_ank_base_link_visual.stl"/>
      </geometry>
      <material name="right_ank_base_link_material">
        <color rgba="0.54555368554134919812 0.72113943789479362234 0.87071994595430801667 1.0"/>
      </material>
    </visual>
    <collision>
      <origin xyz="0 0 0" rpy="0 -0 0"/>
      <geometry>
        <mesh filename="package:///meshes/right_ank_base_link_collision.stl"/>
      </geometry>
    </collision>
    <inertial>
      <origin xyz="-0.0022434246825545770335 -0.043104144816367782889 0.0063175704226240397138" rpy="0 0 0"/>
      <mass value="0.014262085602793538042"/>
      <inertia ixx="1.5262992632425658384e-05" ixy="-9.1266664371015536562e-07" ixz="6.0404946505411834191e-08" iyy="1.9634196913479010804e-06" iyz="7.3113059658503983429e-08" izz="1.5076214172992284614e-05"/>
    </inertial>
  </link>

  <link name="ank_pitch_link_2">
    <visual>
      <origin xyz="0 0 0" rpy="0 -0 0"/>
      <geometry>
        <mesh filename="package:///meshes/ank_pitch_link_2_visual.stl"/>
      </geometry>
      <material name="ank_pitch_link_2_material">
        <color rgba="0.63157201649708305524 0.72836456044913699959 0.78644008682036936619 1.0"/>
      </material>
    </visual>
    <collision>
      <origin xyz="0 0 0" rpy="0 -0 0"/>
      <geometry>
        <mesh filename="package:///meshes/ank_pitch_link_2_collision.stl"/>
      </geometry>
    </collision>
    <inertial>
      <origin xyz="3.9220459196882896197e-08 0.00058467997205909061353 -0.014599924406173888161" rpy="0 0 0"/>
      <mass value="0.0041366725921694342399"/>
      <inertia ixx="4.3252419788338219056e-07" ixy="1.5885354031783980189e-13" ixz="1.5670565570500054478e-12" iyy="3.9522408111774318652e-07" iyz="1.6638141961772190869e-14" izz="8.5883658455740525368e-08"/>
    </inertial>
  </link>

  <link name="ank_roll_link_2">
    <visual>
      <origin xyz="0 0 0" rpy="0 -0 0"/>
      <geometry>
        <mesh filename="package:///meshes/ank_roll_link_2_visual.stl"/>
      </geometry>
      <material name="ank_roll_link_2_material">
        <color rgba="0.61568627450980395466 0.81176470588235283277 0.92941176470588238168 1.0"/>
      </material>
    </visual>
    <collision>
      <origin xyz="0 0 0" rpy="0 -0 0"/>
      <geometry>
        <mesh filename="package:///meshes/ank_roll_link_2_collision.stl"/>
      </geometry>
    </collision>
    <inertial>
      <origin xyz="-1.4901271915569641677e-10 -0.013684967917931594589 0.014389602633949057781" rpy="0 0 0"/>
      <mass value="0.0054237955467263104098"/>
      <inertia ixx="2.3215873123896830813e-06" ixy="-5.7389209347342181748e-15" ixz="-9.0715784946508265523e-15" iyy="2.1054587922310807725e-06" iyz="3.630827125850574989e-07" izz="5.6387331373110577477e-07"/>
    </inertial>
  </link>

  <link name="ank_rigid_foot_link_2">
    <visual>
      <origin xyz="0 0 0" rpy="0 -0 0"/>
      <geometry>
        <mesh filename="package:///meshes/ank_rigid_foot_link_2_visual.stl"/>
      </geometry>
      <material name="ank_rigid_foot_link_2_material">
        <color rgba="0.61568627450980395466 0.81176470588235294379 0.92941176470588238168 1.0"/>
      </material>
    </visual>
    <collision>
      <origin xyz="0 0 0" rpy="0 -0 0"/>
      <geometry>
        <mesh filename="package:///meshes/ank_rigid_foot_link_2_collision.stl"/>
      </geometry>
    </collision>
    <inertial>
      <origin xyz="-0.023731999094105331316 -9.4396649780303798814e-10 -0.013306321578886216167" rpy="0 0 0"/>
      <mass value="0.0082157357687249205763"/>
      <inertia ixx="6.5404454512568340557e-07" ixy="3.4320556103222174329e-13" ixz="-3.2926756768140878181e-07" iyy="5.8836130895435065553e-06" iyz="-3.0207161938409154313e-15" izz="6.2852473690143510358e-06"/>
    </inertial>
  </link>

  <joint name="right_ank_foot" type="fixed">
    <origin xyz="0 -0.022500000000000019984 0.025600000000000001227" rpy="-1.570796326794896558 -1.570796326794896336 0"/>
    <parent link="ank_roll_link_2"/>
    <child link="ank_rigid_foot_link_2"/>
    <axis xyz="0 0 1"/>
    <limit effort="1" velocity="20"/>
    <joint_properties friction="0.0"/>
  </joint>

  <link name="ank_rr_link_3">
    <visual>
      <origin xyz="0 0 0" rpy="0 -0 0"/>
      <geometry>
        <mesh filename="package:///meshes/ank_rr_link_3_visual.stl"/>
      </geometry>
      <material name="ank_rr_link_3_material">
        <color rgba="0.61568627450980395466 0.81176470588235294379 0.92941176470588238168 1.0"/>
      </material>
    </visual>
    <collision>
      <origin xyz="0 0 0" rpy="0 -0 0"/>
      <geometry>
        <mesh filename="package:///meshes/ank_rr_link_3_collision.stl"/>
      </geometry>
    </collision>
    <inertial>
      <origin xyz="2.9962725549961848797e-05 -0.006924128325415312632 -0.0018999999999999993457" rpy="0 0 0"/>
      <mass value="0.00047585137324286056349"/>
      <inertia ixx="1.1040705352249969922e-08" ixy="4.3855175770053003256e-11" ixz="-6.710285772961721861e-15" iyy="9.5635364996381564202e-09" iyz="-2.0297815031880094289e-26" izz="1.4744115584475854764e-08"/>
    </inertial>
  </link>

  <link name="ank_act_rod_head_3">
    <visual>
      <origin xyz="0 0 0" rpy="0 -0 0"/>
      <geometry>
        <mesh filename="package:///meshes/ank_act_rod_head_3_visual.stl"/>
      </geometry>
      <material name="ank_act_rod_head_3_material">
        <color rgba="0.97254901960784312376 0.52941176470588235947 0.0039215686274509803377 1.0"/>
      </material>
    </visual>
    <collision>
      <origin xyz="0 0 0" rpy="0 -0 0"/>
      <geometry>
        <mesh filename="package:///meshes/ank_act_rod_head_3_collision.stl"/>
      </geometry>
    </collision>
    <inertial>
      <origin xyz="-5.7828415825308539677e-11 0.0033987031118029235703 -0.0020055782443104551611" rpy="0 0 0"/>
      <mass value="0.00066080012085386230676"/>
      <inertia ixx="1.067579410464855452e-08" ixy="-1.8531171299137422008e-16" ixz="9.260313296695139606e-16" iyy="2.377371824966105234e-09" iyz="6.3401399719237622234e-12" izz="1.1538333246010974441e-08"/>
    </inertial>
  </link>

  <joint name="right_ank_R21" type="revolute">
    <origin xyz="0.0019999999999999878986 -0.009999999999999995004 -0.0018999999999999991288" rpy="-1.5707963267948961139 -1.5353521467807458301 -1.5707963267947508967"/>
    <parent link="ank_rr_link_3"/>
    <child link="ank_act_rod_head_3"/>
    <axis xyz="0 0 1"/>
    <limit effort="1" velocity="20" lower="-1.570796326794896558" upper="1.570796326794896558"/>
    <joint_properties friction="0.0"/>
  </joint>

  <joint name="right_ank_R11" type="revolute">
    <origin xyz="0.010000000000000008882 -0.012500000000000018041 0.040600000000000004141" rpy="2.5313865286216826369e-15 1.7810538515162586169e-15 3.0693447373541720147"/>
    <parent link="ank_roll_link_2"/>
    <child link="ank_rr_link_3"/>
    <axis xyz="0 0 1"/>
    <limit effort="1" velocity="20" lower="-1.570796326794896558" upper="1.570796326794896558"/>
    <joint_properties friction="0.0"/>
  </joint>

  <link name="ank_rr_link_4">
    <visual>
      <origin xyz="0 0 0" rpy="0 -0 0"/>
      <geometry>
        <mesh filename="package:///meshes/ank_rr_link_4_visual.stl"/>
      </geometry>
      <material name="ank_rr_link_4_material">
        <color rgba="0.61568627450980395466 0.81176470588235294379 0.92941176470588238168 1.0"/>
      </material>
    </visual>
    <collision>
      <origin xyz="0 0 0" rpy="0 -0 0"/>
      <geometry>
        <mesh filename="package:///meshes/ank_rr_link_4_collision.stl"/>
      </geometry>
    </collision>
    <inertial>
      <origin xyz="2.9962725549968811408e-05 0.0069241283254153134993 -0.0018999999999999999962" rpy="0 0 0"/>
      <mass value="0.00047585137324286056349"/>
      <inertia ixx="1.1040705352249973231e-08" ixy="-4.3855175770053138965e-11" ixz="6.7102857729619340646e-15" iyy="9.5635364996381597289e-09" iyz="7.0975356260864047988e-27" izz="1.4744115584475854764e-08"/>
    </inertial>
  </link>

  <link name="ank_act_rod_head_4">
    <visual>
      <origin xyz="0 0 0" rpy="0 -0 0"/>
      <geometry>
        <mesh filename="package:///meshes/ank_act_rod_head_4_visual.stl"/>
      </geometry>
      <material name="ank_act_rod_head_4_material">
        <color rgba="0.97254901960784312376 0.52941176470588235947 0.0039215686274509803377 1.0"/>
      </material>
    </visual>
    <collision>
      <origin xyz="0 0 0" rpy="0 -0 0"/>
      <geometry>
        <mesh filename="package:///meshes/ank_act_rod_head_4_collision.stl"/>
      </geometry>
    </collision>
    <inertial>
      <origin xyz="-5.7828416265912315862e-11 0.0033987031118029235703 -0.0020055782443104621" rpy="0 0 0"/>
      <mass value="0.00066080012085386230676"/>
      <inertia ixx="1.067579410464855452e-08" ixy="-1.8531171301020622808e-16" ixz="9.2603132968862924362e-16" iyy="2.3773718249661060612e-09" iyz="6.3401399719234601086e-12" izz="1.1538333246010974441e-08"/>
    </inertial>
  </link>

  <joint name="right_ank_R22" type="revolute">
    <origin xyz="0.0020000000000000017764 0.009999999999999995004 -0.0018999999999999999962" rpy="-1.57079632679489678 1.5211261901953123665 -1.570796326794951181"/>
    <parent link="ank_rr_link_4"/>
    <child link="ank_act_rod_head_4"/>
    <axis xyz="0 0 1"/>
    <limit effort="1" velocity="20" lower="-1.570796326794896558" upper="1.570796326794896558"/>
    <joint_properties friction="0.0"/>
  </joint>

  <joint name="right_ank_R12" type="revolute">
    <origin xyz="-0.010000000000000005412 -0.012500000000000018041 0.04060000000000001108" rpy="-2.1857493624022859542e-15 -1.8666708694869886266e-15 0.068787263405216209078"/>
    <parent link="ank_roll_link_2"/>
    <child link="ank_rr_link_4"/>
    <axis xyz="0 0 1"/>
    <limit effort="1" velocity="20" lower="-1.570796326794896558" upper="1.570796326794896558"/>
    <joint_properties friction="0.0"/>
  </joint>

  <joint name="right_ank_roll" type="revolute">
    <origin xyz="-1.3877787807814456755e-17 0.0014999999999999805156 -0.01459999999999984574" rpy="-1.5707963267948943376 1.5707963267947937513 0"/>
    <parent link="ank_pitch_link_2"/>
    <child link="ank_roll_link_2"/>
    <axis xyz="0 0 1"/>
    <limit effort="1" velocity="20" lower="-1.570796326794896558" upper="1.570796326794896558"/>
    <joint_properties friction="0.0"/>
  </joint>

  <joint name="right_ank_pitch" type="revolute">
    <origin xyz="6.9388939039072283776e-18 -0.10000000000000000555 0.02089999999999999844" rpy="-1.2383945132469940545e-15 -9.5544025531341604884e-15 -1.5707963267949187625"/>
    <parent link="right_ank_base_link"/>
    <child link="ank_pitch_link_2"/>
    <axis xyz="0 0 1"/>
    <limit effort="1" velocity="20" lower="-1.570796326794896558" upper="1.570796326794896558"/>
    <joint_properties friction="0.0"/>
  </joint>

  <link name="ank_b_link_3">
    <visual>
      <origin xyz="0 0 0" rpy="0 -0 0"/>
      <geometry>
        <mesh filename="package:///meshes/ank_b_link_3_visual.stl"/>
      </geometry>
      <material name="ank_b_link_3_material">
        <color rgba="0.61568627450980406568 0.81176470588235294379 0.92941176470588238168 1.0"/>
      </material>
    </visual>
    <collision>
      <origin xyz="0 0 0" rpy="0 -0 0"/>
      <geometry>
        <mesh filename="package:///meshes/ank_b_link_3_collision.stl"/>
      </geometry>
    </collision>
    <inertial>
      <origin xyz="-4.9409968174925877763e-09 -5.9508723608438337374e-09 -0.0087165888679858055665" rpy="0 0 0"/>
      <mass value="0.00089583742203429468642"/>
      <inertia ixx="3.3822537554673509423e-08" ixy="3.9003059556586992552e-15" ixz="1.5176340834791306701e-14" iyy="4.5803979388252428374e-08" iyz="5.2207519907253311739e-14" izz="2.5946834402259798692e-08"/>
    </inertial>
  </link>

  <link name="ank_act_link_head_3">
    <visual>
      <origin xyz="0 0 0" rpy="0 -0 0"/>
      <geometry>
        <mesh filename="package:///meshes/ank_act_link_head_3_visual.stl"/>
      </geometry>
      <material name="ank_act_link_head_3_material">
        <color rgba="0.8805660089056220885 0.88861789403065327697 0.90620490627743233158 1.0"/>
      </material>
    </visual>
    <collision>
      <origin xyz="0 0 0" rpy="0 -0 0"/>
      <geometry>
        <mesh filename="package:///meshes/ank_act_link_head_3_collision.stl"/>
      </geometry>
    </collision>
    <inertial>
      <origin xyz="8.5302207385579490774e-09 0.0023472231756390235687 -0.0042999819767211696839" rpy="0 0 0"/>
      <mass value="0.0030517714925792842166"/>
      <inertia ixx="5.2970409371069297184e-08" ixy="5.7058840794684736406e-14" ixz="-1.0325254833530500651e-14" iyy="5.6254659413317882916e-08" iyz="1.1646556537605061657e-13" izz="6.2451084839899018871e-08"/>
    </inertial>
  </link>

  <link name="ank_act_link_3">
    <visual>
      <origin xyz="0 0 0" rpy="0 -0 0"/>
      <geometry>
        <mesh filename="package:///meshes/ank_act_link_3_visual.stl"/>
      </geometry>
      <material name="ank_act_link_3_material">
        <color rgba="0.62004392100736027693 0.58836684613512635345 0.49897069021535672695 1.0"/>
      </material>
    </visual>
    <collision>
      <origin xyz="0 0 0" rpy="0 -0 0"/>
      <geometry>
        <mesh filename="package:///meshes/ank_act_link_3_collision.stl"/>
      </geometry>
    </collision>
    <inertial>
      <origin xyz="0.0049084207243661704886 -0.00013802439943759578413 -0.029947003577140640651" rpy="0 0 0"/>
      <mass value="0.044782197696050352054"/>
      <inertia ixx="1.5260128421307411431e-05" ixy="2.295577368665933651e-08" ixz="-8.136420400780391178e-08" iyy="1.8188469778945351305e-05" iyz="-5.5542240843851331749e-08" izz="5.1496273901728923858e-06"/>
    </inertial>
  </link>

  <link name="ank_act_rod_3">
    <visual>
      <origin xyz="0 0 0" rpy="0 -0 0"/>
      <geometry>
        <mesh filename="package:///meshes/ank_act_rod_3_visual.stl"/>
      </geometry>
      <material name="ank_act_rod_3_material">
        <color rgba="0.80016770676329840306 0.8929145636529542962 0.94547111589042631685 1.0"/>
      </material>
    </visual>
    <collision>
      <origin xyz="0 0 0" rpy="0 -0 0"/>
      <geometry>
        <mesh filename="package:///meshes/ank_act_rod_3_collision.stl"/>
      </geometry>
    </collision>
    <inertial>
      <origin xyz="-2.7254954600080735365e-06 -1.2667795959996702322e-05 0.0060054807227738534608" rpy="0 0 0"/>
      <mass value="0.0026945559868381376359"/>
      <inertia ixx="3.2231832056355027408e-07" ixy="-9.9380293187663590555e-13" ixz="1.0490654906885151017e-10" iyy="3.2231218697776069792e-07" iyz="5.6317539915140956982e-10" izz="1.8746557075763282293e-08"/>
    </inertial>
  </link>

  <joint name="right_ank_act1" type="prismatic">
    <origin xyz="2.2722093423522583822e-06 -2.9004576518332214619e-15 -0.059300761807581189866" rpy="3.141592653589793116 4.3394957676616399489e-15 -0.63671356442003834708"/>
    <parent link="ank_act_link_3"/>
    <child link="ank_act_rod_3"/>
    <axis xyz="0 0 1"/>
    <limit effort="1" velocity="20" lower="-0.017000000000000001221" upper="0.017000000000000001221"/>
    <joint_properties friction="0.0"/>
  </joint>

  <joint name="right_ank_B31" type="revolute">
    <origin xyz="8.6736173798840354721e-19 0.0060500000000000275779 -0.0042999999999999982681" rpy="1.57079632679489678 5.4574690011256526203e-06 5.2875499908971443947e-15"/>
    <parent link="ank_act_link_head_3"/>
    <child link="ank_act_link_3"/>
    <axis xyz="0 0 1"/>
    <limit effort="1" velocity="20" lower="-1.570796326794896558" upper="1.570796326794896558"/>
    <joint_properties friction="0.0"/>
  </joint>

  <joint name="right_ank_B21" type="revolute">
    <origin xyz="0.0045000000000000039968 0 -0.016999999999999994282" rpy="-1.57079632679489678 -1.5353521467806920953 -1.5707963267954754283"/>
    <parent link="ank_b_link_3"/>
    <child link="ank_act_link_head_3"/>
    <axis xyz="0 0 1"/>
    <limit effort="1" velocity="20" lower="-1.570796326794896558" upper="1.570796326794896558"/>
    <joint_properties friction="0.0"/>
  </joint>

  <joint name="right_ank_B11" type="revolute">
    <origin xyz="0.020000000000000010825 -0.010000000000000008882 -0.011499999999999996336" rpy="-1.570796326794896558 -1.4985484105593720461 1.5707963267948759079"/>
    <parent link="right_ank_base_link"/>
    <child link="ank_b_link_3"/>
    <axis xyz="0 0 1"/>
    <limit effort="1" velocity="20" lower="-1.570796326794896558" upper="1.570796326794896558"/>
    <joint_properties friction="0.0"/>
  </joint>

  <link name="ank_b_link_4">
    <visual>
      <origin xyz="0 0 0" rpy="0 -0 0"/>
      <geometry>
        <mesh filename="package:///meshes/ank_b_link_4_visual.stl"/>
      </geometry>
      <material name="ank_b_link_4_material">
        <color rgba="0.61568627450980406568 0.81176470588235294379 0.92941176470588238168 1.0"/>
      </material>
    </visual>
    <collision>
      <origin xyz="0 0 0" rpy="0 -0 0"/>
      <geometry>
        <mesh filename="package:///meshes/ank_b_link_4_collision.stl"/>
      </geometry>
    </collision>
    <inertial>
      <origin xyz="-4.9409968209604142814e-09 5.9508723885950757538e-09 0.0087165888679858073013" rpy="0 0 0"/>
      <mass value="0.00089583742203429468642"/>
      <inertia ixx="3.3822537554673509423e-08" ixy="-3.9003059546535074462e-15" ixz="-1.5176340834794925995e-14" iyy="4.5803979388252428374e-08" iyz="5.2207519907262803313e-14" izz="2.594683440225980531e-08"/>
    </inertial>
  </link>

  <link name="ank_act_link_head_4">
    <visual>
      <origin xyz="0 0 0" rpy="0 -0 0"/>
      <geometry>
        <mesh filename="package:///meshes/ank_act_link_head_4_visual.stl"/>
      </geometry>
      <material name="ank_act_link_head_4_material">
        <color rgba="0.8805660089056220885 0.88861789403065327697 0.90620490627743233158 1.0"/>
      </material>
    </visual>
    <collision>
      <origin xyz="0 0 0" rpy="0 -0 0"/>
      <geometry>
        <mesh filename="package:///meshes/ank_act_link_head_4_collision.stl"/>
      </geometry>
    </collision>
    <inertial>
      <origin xyz="8.5302207622814294885e-09 -0.0023472231756389775985 -0.00430001802327877828" rpy="0 0 0"/>
      <mass value="0.0030517714925792842166"/>
      <inertia ixx="5.2970409371069006017e-08" ixy="-5.7058840549267761141e-14" ixz="1.0325254833331065571e-14" iyy="5.6254659413317882916e-08" iyz="1.1646556593890042382e-13" izz="6.2451084839898727703e-08"/>
    </inertial>
  </link>

  <link name="ank_act_link_4">
    <visual>
      <origin xyz="0 0 0" rpy="0 -0 0"/>
      <geometry>
        <mesh filename="package:///meshes/ank_act_link_4_visual.stl"/>
      </geometry>
      <material name="ank_act_link_4_material">
        <color rgba="0.62004392100736016591 0.58836684613512635345 0.49897069021535661593 1.0"/>
      </material>
    </visual>
    <collision>
      <origin xyz="0 0 0" rpy="0 -0 0"/>
      <geometry>
        <mesh filename="package:///meshes/ank_act_link_4_collision.stl"/>
      </geometry>
    </collision>
    <inertial>
      <origin xyz="0.0049084207243675096952 -0.00013802439943489872281 -0.029947003577135370561" rpy="0 0 0"/>
      <mass value="0.044782197696050352054"/>
      <inertia ixx="1.5260128421303321956e-05" ixy="2.2955773686876971038e-08" ixz="-8.1364204007192473106e-08" iyy="1.818846977894084509e-05" iyz="-5.5542240842755860068e-08" izz="5.1496273901724637872e-06"/>
    </inertial>
  </link>

  <link name="ank_act_rod_4">
    <visual>
      <origin xyz="0 0 0" rpy="0 -0 0"/>
      <geometry>
        <mesh filename="package:///meshes/ank_act_rod_4_visual.stl"/>
      </geometry>
      <material name="ank_act_rod_4_material">
        <color rgba="0.80016770676329840306 0.8929145636529542962 0.94547111589042631685 1.0"/>
      </material>
    </visual>
    <collision>
      <origin xyz="0 0 0" rpy="0 -0 0"/>
      <geometry>
        <mesh filename="package:///meshes/ank_act_rod_4_collision.stl"/>
      </geometry>
    </collision>
    <inertial>
      <origin xyz="-2.7254954594478421336e-06 -1.2667795959167689154e-05 0.0060054807227748517942" rpy="0 0 0"/>
      <mass value="0.0026945559868381376359"/>
      <inertia ixx="3.2231832056361300746e-07" ixy="-9.9380293174949263124e-13" ixz="1.0490654905141684346e-10" iyy="3.2231218697782364306e-07" iyz="5.6317539912524915577e-10" izz="1.8746557075763083769e-08"/>
    </inertial>
  </link>

  <joint name="right_ank_act2" type="prismatic">
    <origin xyz="2.2722093449703897883e-06 1.8110513089197866066e-15 -0.059305633004860927593" rpy="-3.1415926535897846783 -1.11945757313106456e-14 -0.63671356441985949015"/>
    <parent link="ank_act_link_4"/>
    <child link="ank_act_rod_4"/>
    <axis xyz="0 0 1"/>
    <limit effort="1" velocity="20" lower="-0.017000000000000001221" upper="0.017000000000000001221"/>
    <joint_properties friction="0.0"/>
  </joint>

  <joint name="right_ank_B32" type="revolute">
    <origin xyz="-8.6736173798840354721e-19 -0.0060499999999999720668 -0.0042999999999999982681" rpy="-1.570796326794896558 -5.4574693955425126324e-06 3.8245928442555554852e-15"/>
    <parent link="ank_act_link_head_4"/>
    <child link="ank_act_link_4"/>
    <axis xyz="0 0 1"/>
    <limit effort="1" velocity="20" lower="-1.570796326794896558" upper="1.570796326794896558"/>
    <joint_properties friction="0.0"/>
  </joint>

  <joint name="right_ank_B22" type="revolute">
    <origin xyz="0.004499999999999990119 2.7755575615628913511e-17 0.016999999999999997752" rpy="-1.57079632679489678 1.5211261901953414544 -1.5707963267943136909"/>
    <parent link="ank_b_link_4"/>
    <child link="ank_act_link_head_4"/>
    <axis xyz="0 0 1"/>
    <limit effort="1" velocity="20" lower="-1.570796326794896558" upper="1.570796326794896558"/>
    <joint_properties friction="0.0"/>
  </joint>

  <joint name="right_ank_B12" type="revolute">
    <origin xyz="0.018680019623525549732 -0.0099999999999999811262 0.023400000000000007599" rpy="1.5707963267949001107 1.502009063389788901 1.5707963267948978903"/>
    <parent link="right_ank_base_link"/>
    <child link="ank_b_link_4"/>
    <axis xyz="0 0 1"/>
    <limit effort="1" velocity="20" lower="-1.570796326794896558" upper="1.570796326794896558"/>
    <joint_properties friction="0.0"/>
  </joint>

  <joint name="right_ank_base" type="fixed">
    <origin xyz="2.7755575615628913511e-17 0 -0.0065000000000000057732" rpy="5.6993076818632995017e-17 -9.6318510415490070481e-17 1.0524335389525802942"/>
    <parent link="knee_link_2"/>
    <child link="right_ank_base_link"/>
    <axis xyz="0 0 1"/>
    <limit effort="1" velocity="20"/>
    <joint_properties friction="0.0"/>
  </joint>

  <joint name="right_knee" type="revolute">
    <origin xyz="-4.1633363423443370266e-17 -0.10749999999999990119 0.016499999999997842781" rpy="3.4590285370200512466e-17 -1.0374608420584268216e-16 -1.0471975511965516681"/>
    <parent link="hip_pitch_link_2"/>
    <child link="knee_link_2"/>
    <axis xyz="0 0 1"/>
    <limit effort="1" velocity="20" lower="-1.0471975511965976313" upper="2.0943951023931952626"/>
    <joint_properties friction="0.0"/>
  </joint>

  <joint name="right_hip_pitch" type="revolute">
    <origin xyz="-0.02400000071614161179 -0.019000000152454406266 -0.019000000152450496199" rpy="-1.5707963267946469799 -1.5707963267948819031 0"/>
    <parent link="hip_roll_link_2"/>
    <child link="hip_pitch_link_2"/>
    <axis xyz="0 0 1"/>
    <limit effort="1" velocity="20" lower="-1.570796326794896558" upper="1.570796326794896558"/>
    <joint_properties friction="0.0"/>
  </joint>

  <joint name="right_hip_roll" type="revolute">
    <origin xyz="0.018999999999999992589 -1.3877787807814456755e-17 -0.027500000000000024425" rpy="-3.141592653589793116 -1.5707963267946309927 0"/>
    <parent link="hip_yaw_link_2"/>
    <child link="hip_roll_link_2"/>
    <axis xyz="0 0 1"/>
    <limit effort="1" velocity="20" lower="-1.570796326794896558" upper="1.570796326794896558"/>
    <joint_properties friction="0.0"/>
  </joint>

  <joint name="right_hip_yaw" type="revolute">
    <origin xyz="-0.035000000000000003331 -0.040000000000000007772 0.32359999999999999876" rpy="1.1485706107586878963e-15 -6.1238048206303817597e-17 1.5707963267948590325"/>
    <parent link="body_link"/>
    <child link="hip_yaw_link_2"/>
    <axis xyz="0 0 1"/>
    <limit effort="1" velocity="20" lower="-1.570796326794896558" upper="1.570796326794896558"/>
    <joint_properties friction="0.0"/>
  </joint>

  <link name="sho_pitch_link">
    <visual>
      <origin xyz="0 0 0" rpy="0 -0 0"/>
      <geometry>
        <mesh filename="package:///meshes/sho_pitch_link_visual.stl"/>
      </geometry>
      <material name="sho_pitch_link_material">
        <color rgba="0.61568627450980395466 0.81176470588235283277 0.92941176470588238168 1.0"/>
      </material>
    </visual>
    <collision>
      <origin xyz="0 0 0" rpy="0 -0 0"/>
      <geometry>
        <mesh filename="package:///meshes/sho_pitch_link_collision.stl"/>
      </geometry>
    </collision>
    <inertial>
      <origin xyz="-3.0491385331931296934e-09 0.002198051598319229142 -0.0084441034778716117515" rpy="0 0 0"/>
      <mass value="0.0050714799847967799787"/>
      <inertia ixx="7.6348105206556994136e-07" ixy="1.1155743805145749837e-13" ixz="9.7455166089867480653e-15" iyy="1.7661180179823260737e-06" iyz="1.1100867450486908494e-07" izz="1.865095560381118166e-06"/>
    </inertial>
  </link>

  <link name="sho_roll_link">
    <visual>
      <origin xyz="0 0 0" rpy="0 -0 0"/>
      <geometry>
        <mesh filename="package:///meshes/sho_roll_link_visual.stl"/>
      </geometry>
      <material name="sho_roll_link_material">
        <color rgba="0.41243716778099170917 0.5314104017449963191 0.72755857506443588623 1.0"/>
      </material>
    </visual>
    <collision>
      <origin xyz="0 0 0" rpy="0 -0 0"/>
      <geometry>
        <mesh filename="package:///meshes/sho_roll_link_collision.stl"/>
      </geometry>
    </collision>
    <inertial>
      <origin xyz="-0.044750001317537542456 -2.1437024781496278185e-09 -0.018766560050927118264" rpy="0 0 0"/>
      <mass value="0.14053933881247798743"/>
      <inertia ixx="2.5542860709012482238e-05" ixy="3.36460290289934431e-08" ixz="-2.9382375557536781138e-12" iyy="0.00018283946647031849679" iyz="-7.6178891178250392703e-12" izz="0.00017786975360446983033"/>
    </inertial>
  </link>

  <link name="elb_link">
    <visual>
      <origin xyz="0 0 0" rpy="0 -0 0"/>
      <geometry>
        <mesh filename="package:///meshes/elb_link_visual.stl"/>
      </geometry>
      <material name="elb_link_material">
        <color rgba="0.632763333624367319 0.72211014553089536427 0.77571823267481221365 1.0"/>
      </material>
    </visual>
    <collision>
      <origin xyz="0 0 0" rpy="0 -0 0"/>
      <geometry>
        <mesh filename="package:///meshes/elb_link_collision.stl"/>
      </geometry>
    </collision>
    <inertial>
      <origin xyz="0.0035809919318979355034 0.051692930824584877592 0.018999999639623971898" rpy="0 0 0"/>
      <mass value="0.011587175244532090662"/>
      <inertia ixx="9.8008364445092886156e-06" ixy="-7.9870408555377952025e-07" ixz="2.3421926565742293119e-13" iyy="2.9172843721889646448e-06" iyz="2.5739631849955080073e-14" izz="8.0566619883509249555e-06"/>
    </inertial>
  </link>

  <joint name="left_elb" type="revolute">
    <origin xyz="-0.089500000000000148881 0 5.5511151231257827021e-17" rpy="-3.141592653589793116 -8.8760630082751599313e-15 -1.570796326794896558"/>
    <parent link="sho_roll_link"/>
    <child link="elb_link"/>
    <axis xyz="0 0 1"/>
    <limit effort="1" velocity="20" lower="-1.570796326794896558" upper="1.570796326794896558"/>
    <joint_properties friction="0.0"/>
  </joint>

  <joint name="left_sho_roll" type="revolute">
    <origin xyz="-0.019000000000000009936 0.0090000000000000079936 -0.027499999999999982792" rpy="-0 -1.5707963267948894526 0"/>
    <parent link="sho_pitch_link"/>
    <child link="sho_roll_link"/>
    <axis xyz="0 0 1"/>
    <limit effort="1" velocity="20" lower="-1.570796326794896558" upper="1.570796326794896558"/>
    <joint_properties friction="0.0"/>
  </joint>

  <joint name="left_sho_pitch" type="revolute">
    <origin xyz="0.060499999999999609646 -0.044999999999999804046 0.45499999999999990452" rpy="-1.5707963267948705788 3.7242253603279489435e-14 1.5707963267949578423"/>
    <parent link="body_link"/>
    <child link="sho_pitch_link"/>
    <axis xyz="0 0 1"/>
    <limit effort="1" velocity="20" lower="-1.570796326794896558" upper="1.570796326794896558"/>
    <joint_properties friction="0.0"/>
  </joint>

  <link name="sho_pitch_link_2">
    <visual>
      <origin xyz="0 0 0" rpy="0 -0 0"/>
      <geometry>
        <mesh filename="package:///meshes/sho_pitch_link_2_visual.stl"/>
      </geometry>
      <material name="sho_pitch_link_2_material">
        <color rgba="0.61568627450980395466 0.81176470588235283277 0.92941176470588238168 1.0"/>
      </material>
    </visual>
    <collision>
      <origin xyz="0 0 0" rpy="0 -0 0"/>
      <geometry>
        <mesh filename="package:///meshes/sho_pitch_link_2_collision.stl"/>
      </geometry>
    </collision>
    <inertial>
      <origin xyz="-3.0491385331931296934e-09 0.002198051598319229142 -0.0084441034778716117515" rpy="0 0 0"/>
      <mass value="0.0050714799847967799787"/>
      <inertia ixx="7.6348105206556994136e-07" ixy="1.1155743805145749837e-13" ixz="9.7455166089867480653e-15" iyy="1.7661180179823260737e-06" iyz="1.1100867450486908494e-07" izz="1.865095560381118166e-06"/>
    </inertial>
  </link>

  <link name="sho_roll_link_2">
    <visual>
      <origin xyz="0 0 0" rpy="0 -0 0"/>
      <geometry>
        <mesh filename="package:///meshes/sho_roll_link_2_visual.stl"/>
      </geometry>
      <material name="sho_roll_link_2_material">
        <color rgba="0.4124371677809913761 0.53141040174499643012 0.72755857506443599725 1.0"/>
      </material>
    </visual>
    <collision>
      <origin xyz="0 0 0" rpy="0 -0 0"/>
      <geometry>
        <mesh filename="package:///meshes/sho_roll_link_2_collision.stl"/>
      </geometry>
    </collision>
    <inertial>
      <origin xyz="-0.044750001317537445311 -2.1437023959921328023e-09 -0.018766560050927125203" rpy="0 0 0"/>
      <mass value="0.14053933881247798743"/>
      <inertia ixx="2.5542860709012444969e-05" ixy="3.3646029028880966389e-08" ixz="-2.9382375876034404196e-12" iyy="0.00018283946647031795469" iyz="-7.6178891149106250939e-12" izz="0.00017786975360446923402"/>
    </inertial>
  </link>

  <link name="elb_link_2">
    <visual>
      <origin xyz="0 0 0" rpy="0 -0 0"/>
      <geometry>
        <mesh filename="package:///meshes/elb_link_2_visual.stl"/>
      </geometry>
      <material name="elb_link_2_material">
        <color rgba="0.632763333624367319 0.72211014553089536427 0.77571823267481221365 1.0"/>
      </material>
    </visual>
    <collision>
      <origin xyz="0 0 0" rpy="0 -0 0"/>
      <geometry>
        <mesh filename="package:///meshes/elb_link_2_collision.stl"/>
      </geometry>
    </collision>
    <inertial>
      <origin xyz="0.0035809919318979138193 -0.051692930824584995553 0.019000000360375995934" rpy="0 0 0"/>
      <mass value="0.011587175244532090662"/>
      <inertia ixx="9.8008364445091412318e-06" ixy="7.9870408555377412041e-07" ixz="-2.342192405469504317e-13" iyy="2.9172843721889756562e-06" iyz="2.5739618023276759687e-14" izz="8.0566619883509825537e-06"/>
    </inertial>
  </link>

  <joint name="right_elb" type="revolute">
    <origin xyz="-0.089500000000000051736 0 1.3877787807814456755e-17" rpy="-3.141592653589793116 -3.3306690738761288132e-16 1.5707963267948976682"/>
    <parent link="sho_roll_link_2"/>
    <child link="elb_link_2"/>
    <axis xyz="0 0 1"/>
    <limit effort="1" velocity="20" lower="-1.570796326794896558" upper="1.570796326794896558"/>
    <joint_properties friction="0.0"/>
  </joint>

  <joint name="right_sho_roll" type="revolute">
    <origin xyz="0.019000000000000009936 0.0090000000000000079936 -0.027500000000000003608" rpy="-3.141592653589793116 -1.570796326794896558 0"/>
    <parent link="sho_pitch_link_2"/>
    <child link="sho_roll_link_2"/>
    <axis xyz="0 0 1"/>
    <limit effort="1" velocity="20" lower="-1.570796326794896558" upper="1.570796326794896558"/>
    <joint_properties friction="0.0"/>
  </joint>

  <joint name="right_sho_pitch" type="revolute">
    <origin xyz="-0.060500000000000005163 -0.044999999999999991396 0.45499999999999996003" rpy="-1.570796326794896558 7.2736973397141567712e-16 -1.570796326794896558"/>
    <parent link="body_link"/>
    <child link="sho_pitch_link_2"/>
    <axis xyz="0 0 1"/>
    <limit effort="1" velocity="20" lower="-1.570796326794896558" upper="1.570796326794896558"/>
    <joint_properties friction="0.0"/>
  </joint>


</robot>
